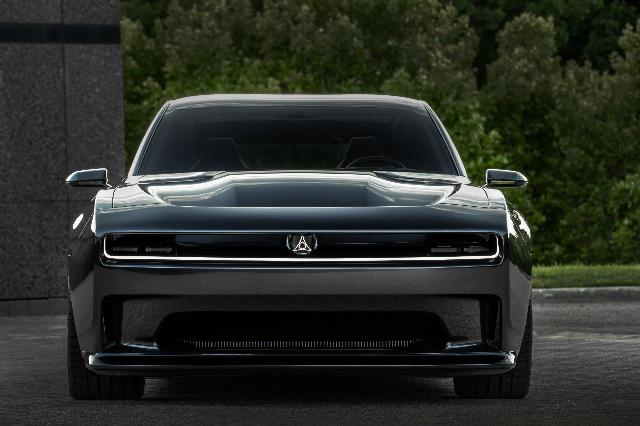dodge: (64, 93, 534, 401)
